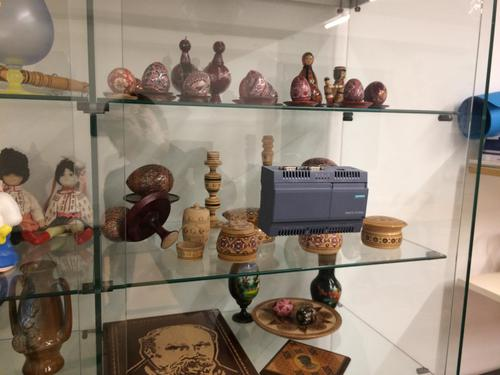iot2000: (256, 164, 369, 237)
